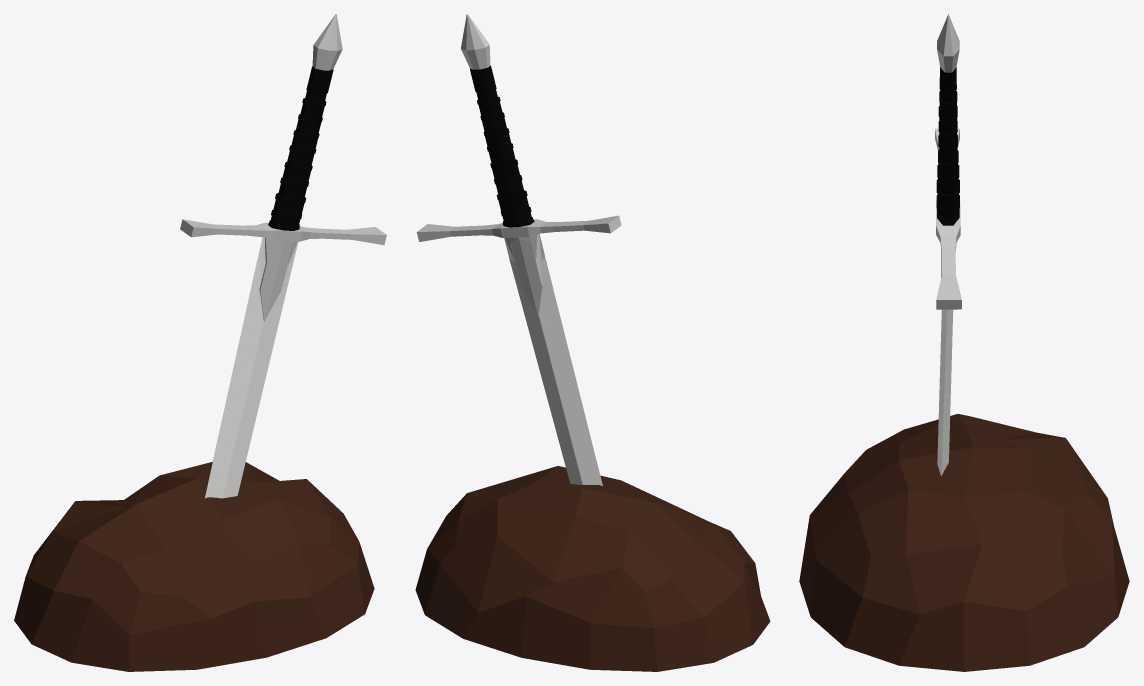
Rendered from Bonfire.fbx.
The picture shows the model from 3 angles, left to right: view 1: azimuth 30°, elevation 25°; view 2: azimuth 150°, elevation 25°; view 3: azimuth 270°, elevation 25°; orthographic projection. The views are drawn at different scales.
Parts seen in each view (by area): view 1: Cube, Cube.003, Cube.001, Cube.007, Cube.009, Cube.008; view 2: Cube, Cube.003, Cube.001, Cube.007, Cube.009, Cube.008; view 3: Cube, Cube.003, Cube.001, Cube.009, Cube.007, Cube.008.
Part boxes in pixels (x1,y1,x2,y2): Cube: (14, 462, 374, 671); Cube.003: (204, 237, 298, 498); Cube.001: (180, 219, 386, 320); Cube.007: (270, 90, 326, 225); Cube.009: (268, 66, 333, 230); Cube.008: (312, 14, 342, 70); Cube: (415, 466, 770, 671); Cube.003: (504, 234, 602, 485); Cube.001: (416, 215, 621, 316); Cube.007: (476, 89, 531, 222); Cube.009: (470, 65, 534, 227); Cube.008: (461, 14, 490, 69); Cube: (799, 414, 1129, 671); Cube.003: (937, 309, 953, 475); Cube.001: (935, 128, 961, 309); Cube.009: (936, 67, 959, 225); Cube.007: (937, 91, 958, 219); Cube.008: (937, 14, 959, 72).
Size of the model in its own units: 116 by 181 by 84.45.
